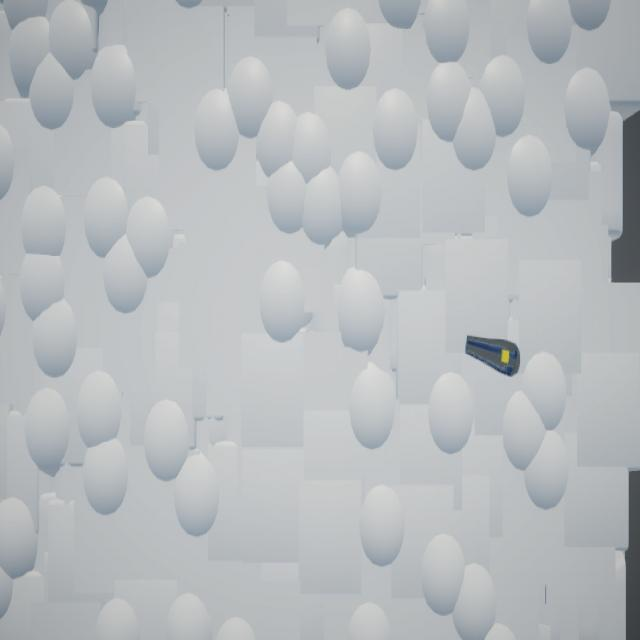handle_knife: (466, 337, 522, 378)
